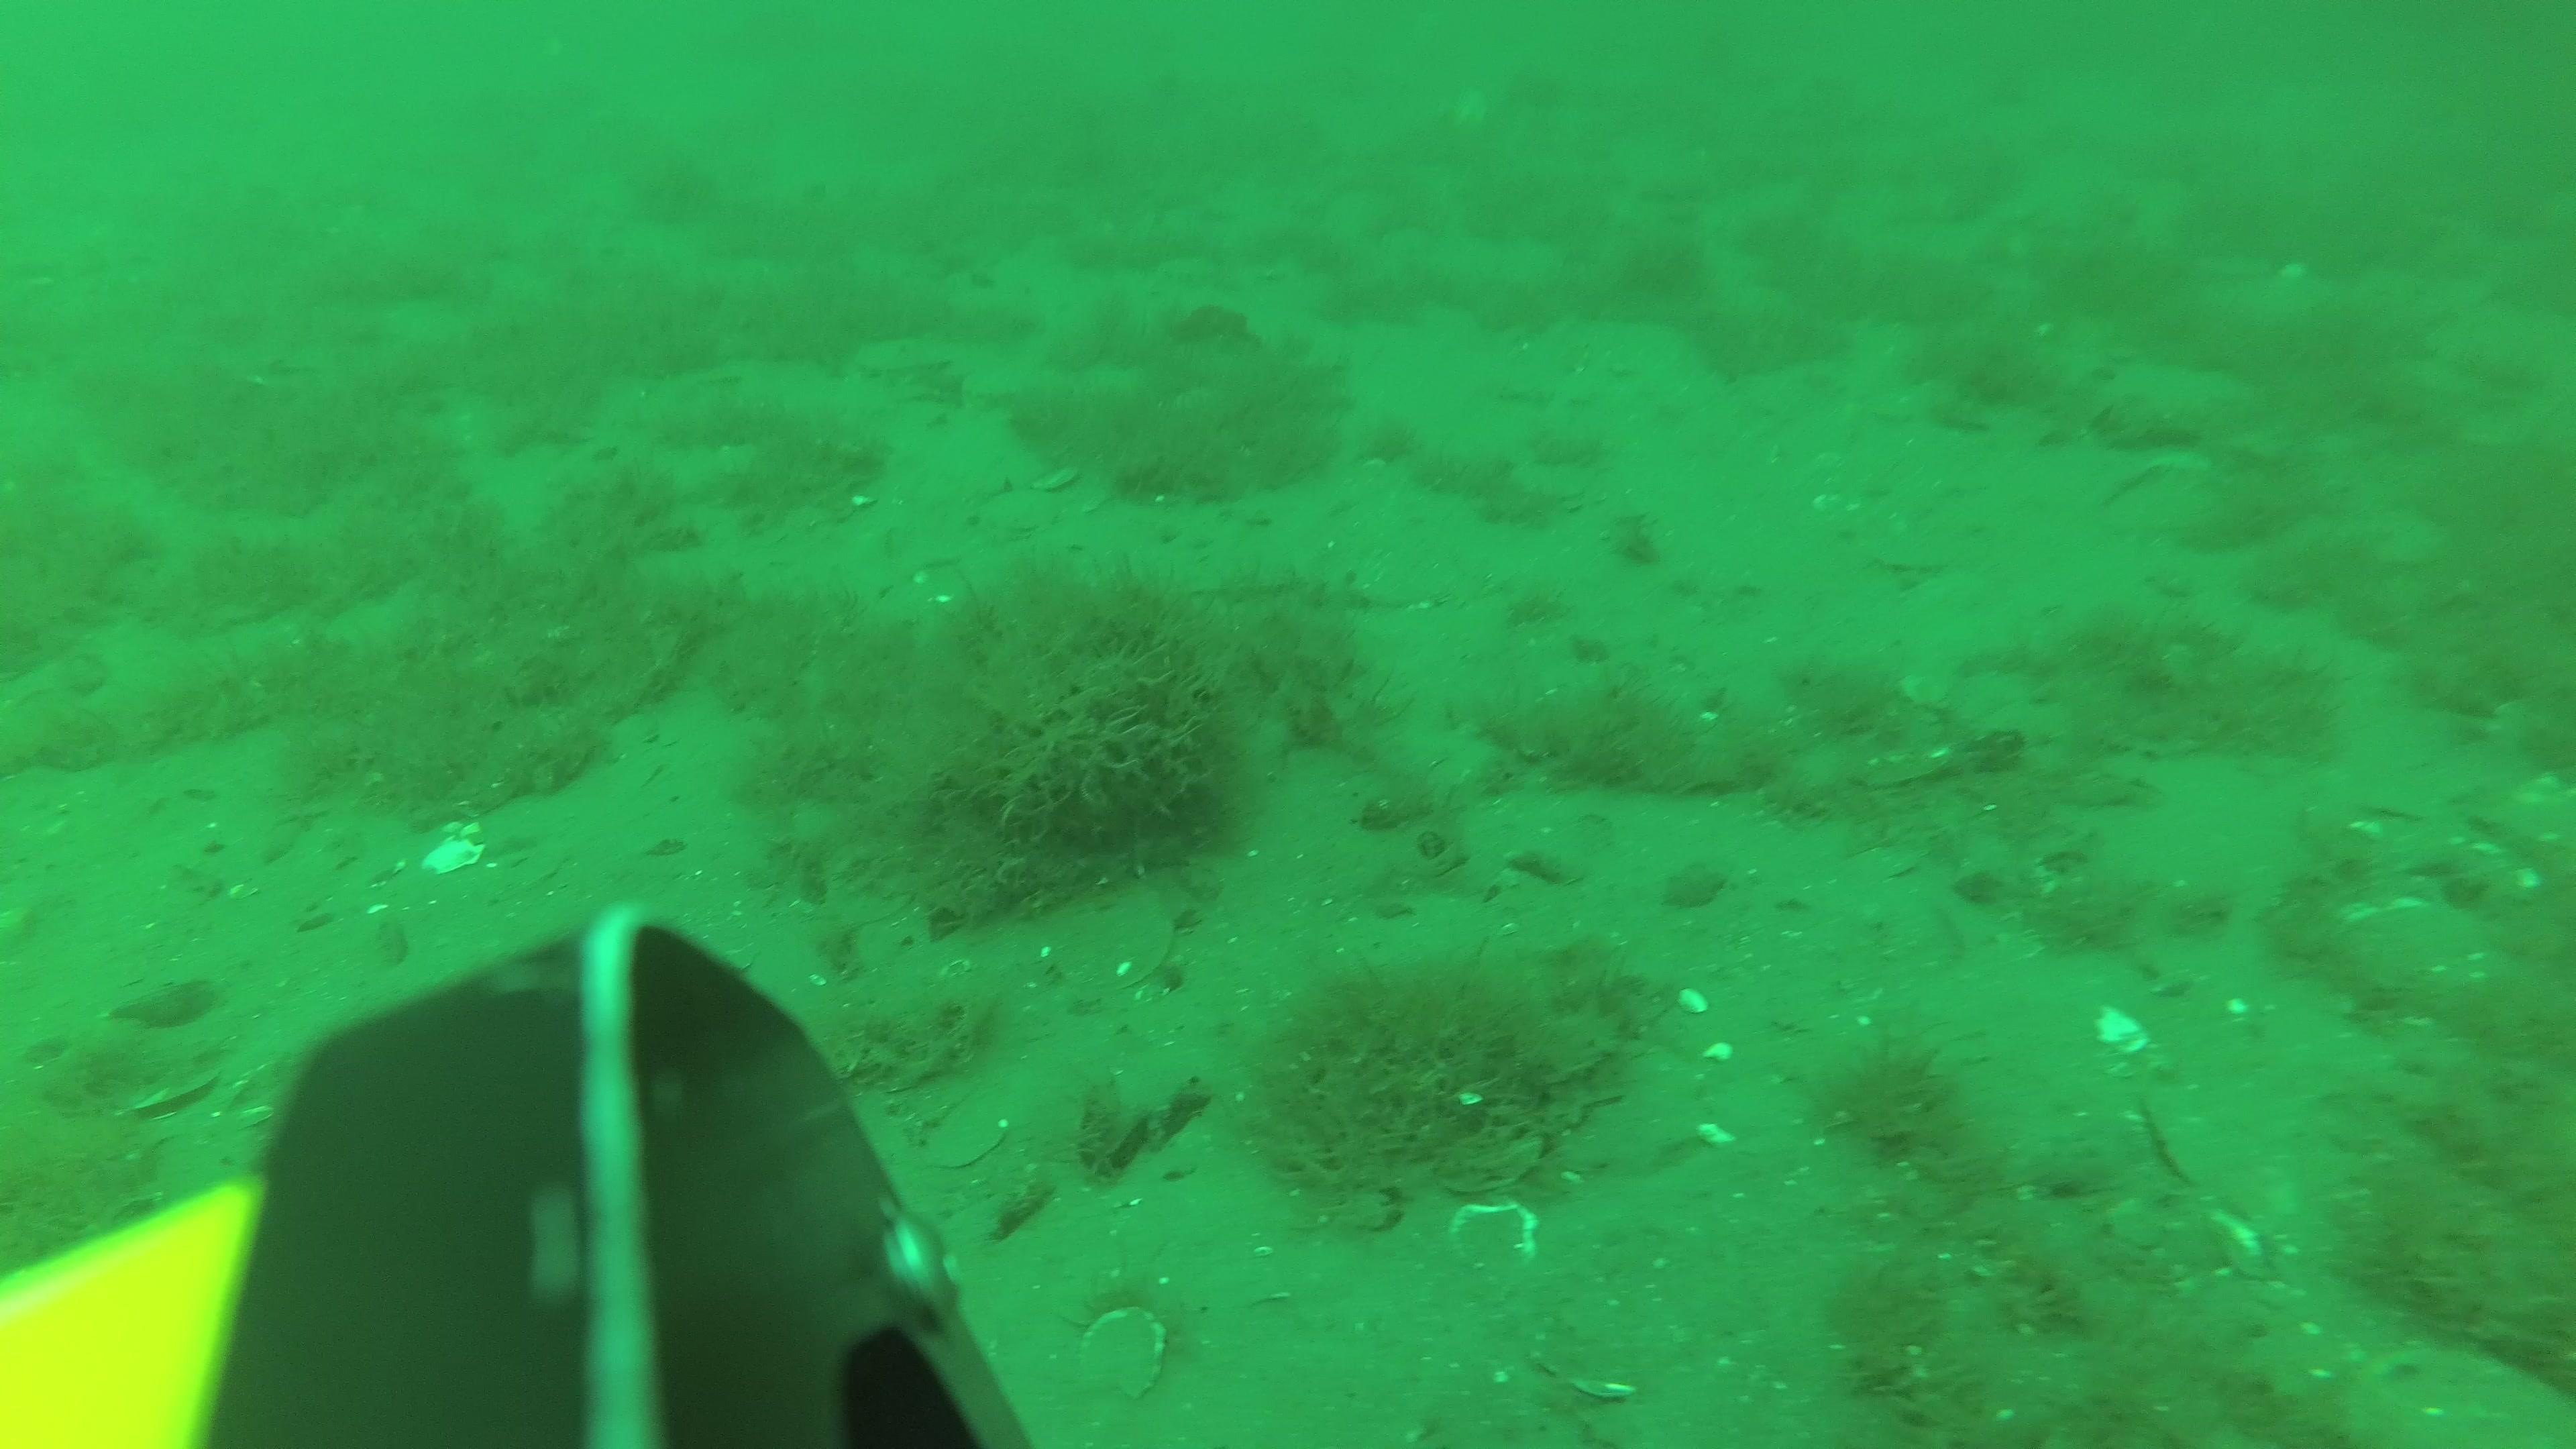scallop: (1063, 888, 1177, 993), (1083, 1307, 1168, 1399), (1451, 1198, 1543, 1281), (929, 1104, 1000, 1171), (1870, 527, 1957, 579), (982, 488, 1051, 536)
